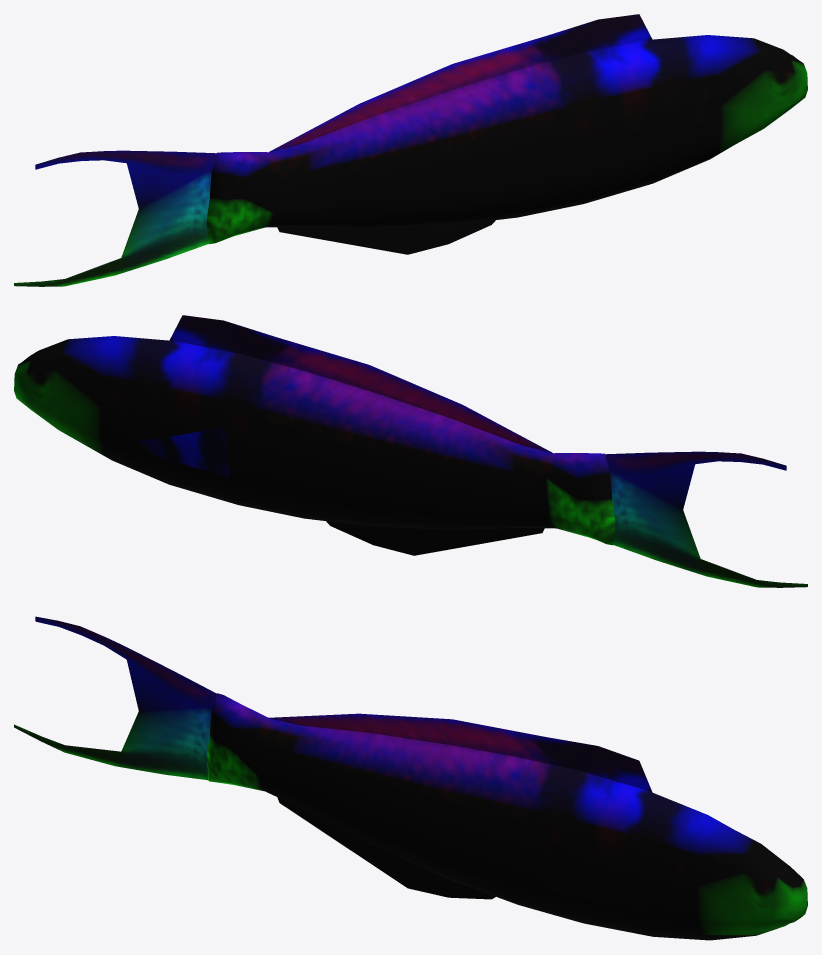
The model's file is bluehead_wrasse.glb.
3 renders of one model, top to bottom at view 1: azimuth 30°, elevation 25°; view 2: azimuth 150°, elevation 25°; view 3: azimuth 330°, elevation 25°, orthographic.
Parts seen in each view (by area): view 1: BlueheadWrasse; view 2: BlueheadWrasse; view 3: BlueheadWrasse.
Boxes of the visible parts, left/top/right/bottom form: BlueheadWrasse: left=14, top=14, right=807, bottom=286; BlueheadWrasse: left=14, top=315, right=807, bottom=587; BlueheadWrasse: left=14, top=616, right=807, bottom=940.
Size of the model in its own units: 1 by 0.2277 by 0.1198.
1 material, 1 textured.
